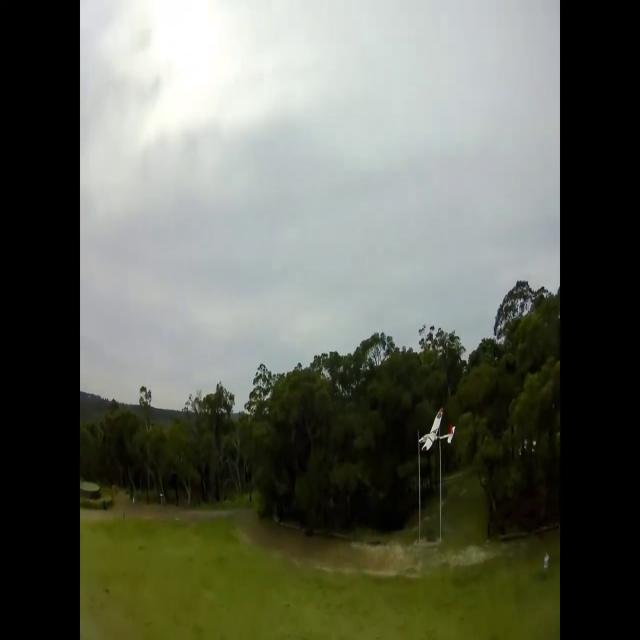iha: (416, 409, 456, 453)
